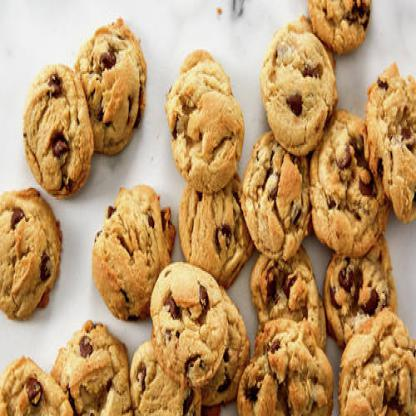cookie: (310, 102, 390, 258), (90, 181, 172, 324), (167, 44, 242, 188), (260, 22, 337, 160), (72, 18, 148, 157), (23, 61, 93, 198), (151, 263, 228, 382), (235, 326, 334, 414), (0, 186, 63, 319), (325, 232, 398, 345), (243, 133, 310, 256), (176, 179, 253, 286), (339, 310, 415, 414), (51, 322, 136, 414), (253, 244, 327, 346), (367, 67, 415, 219), (126, 338, 200, 414), (0, 356, 75, 414), (310, 0, 376, 55)
